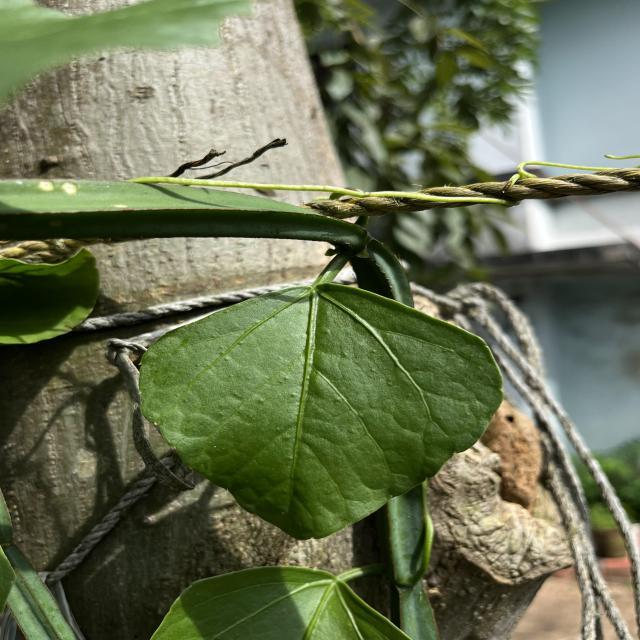Cissus quadrangularis: (134, 278, 509, 544)
